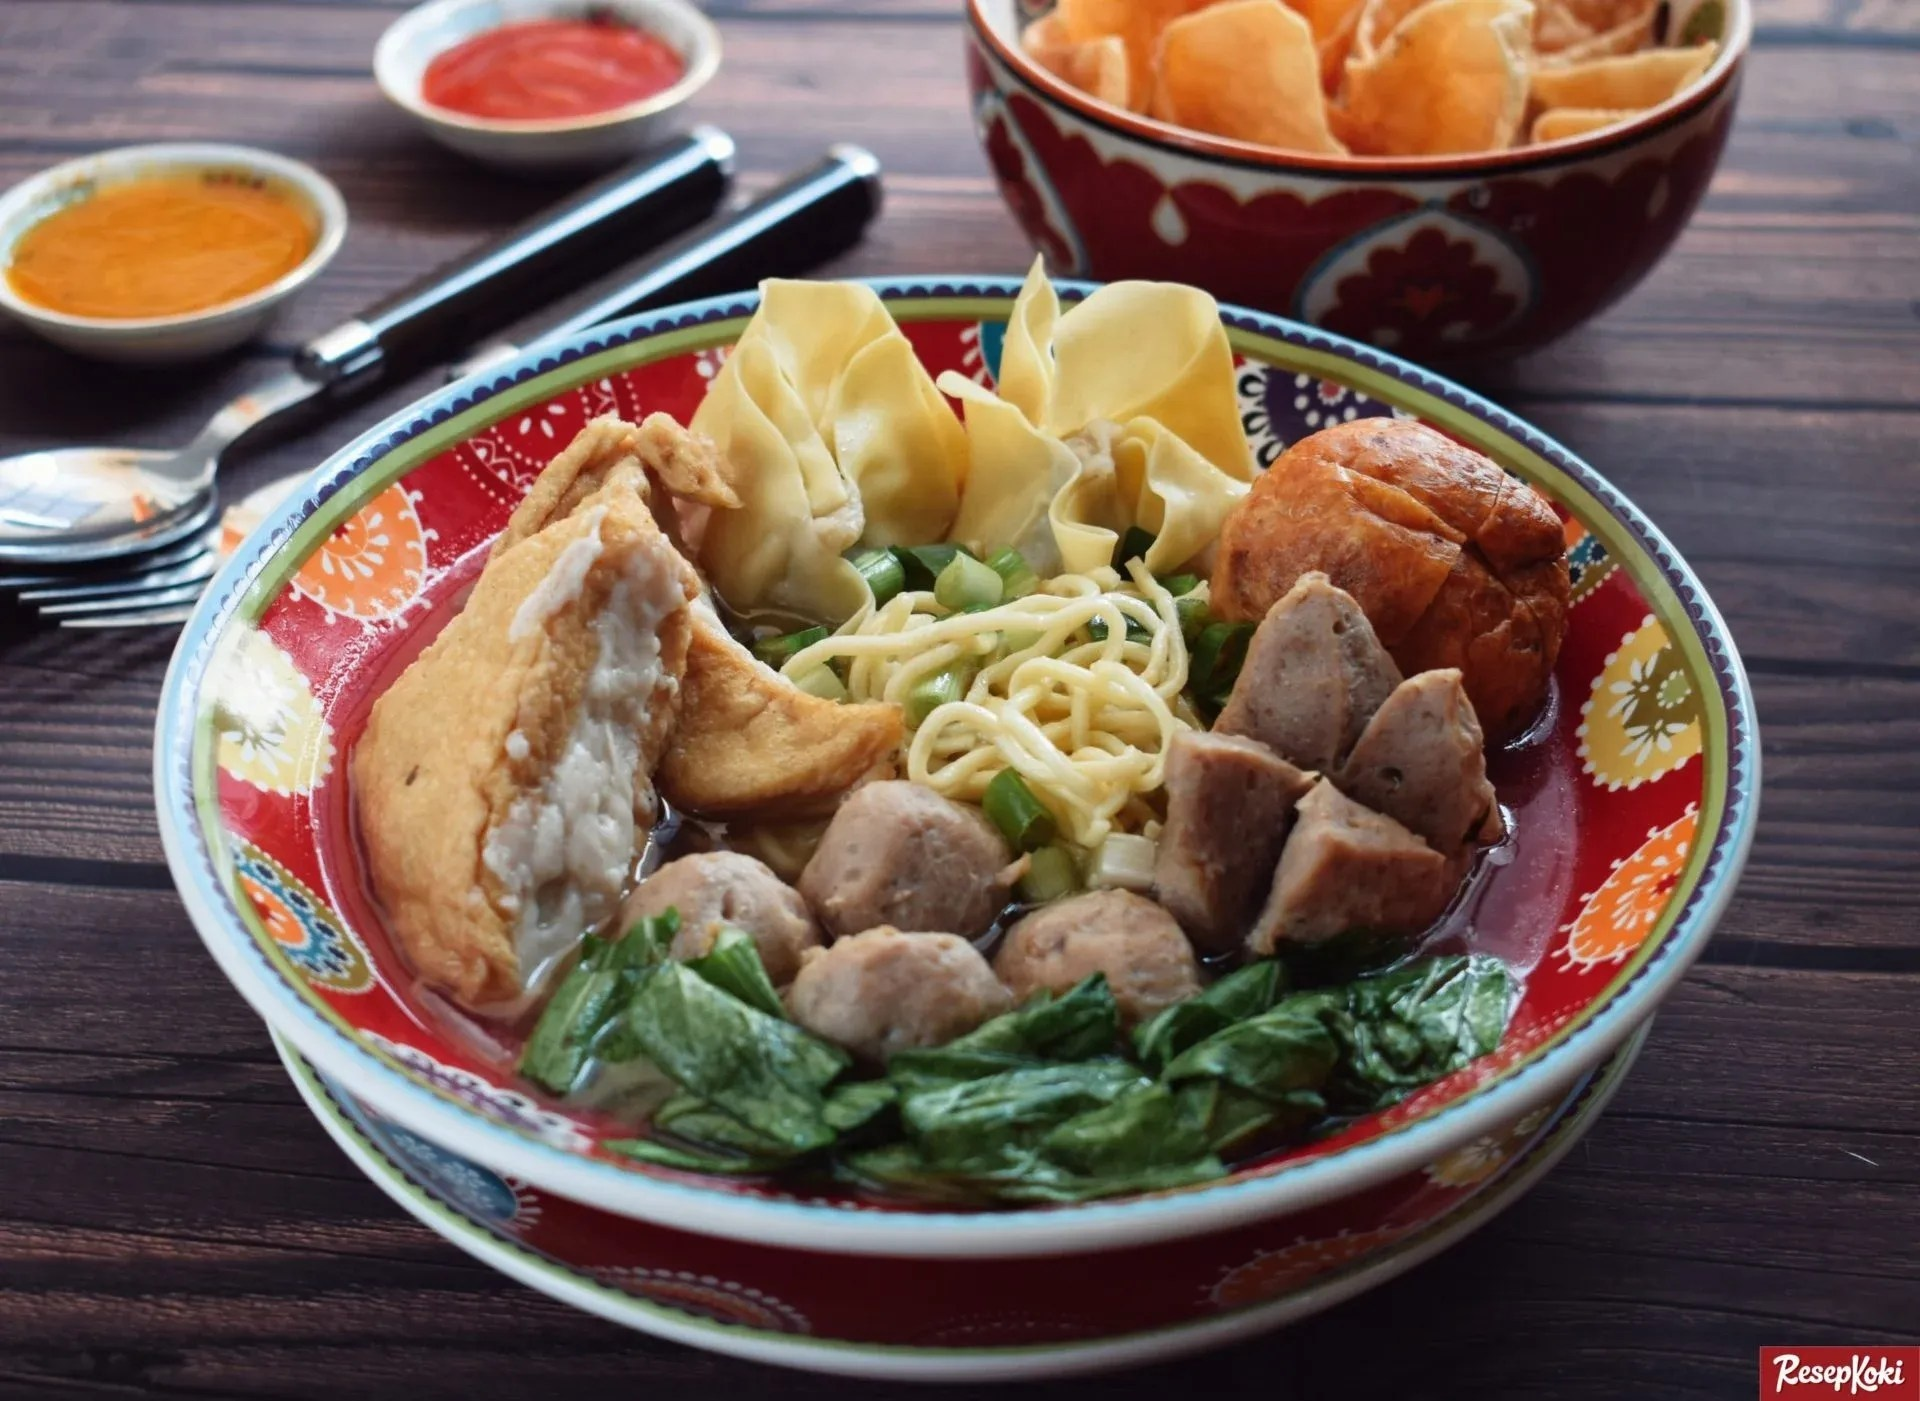bakso_malang: (358, 279, 1571, 1204)
